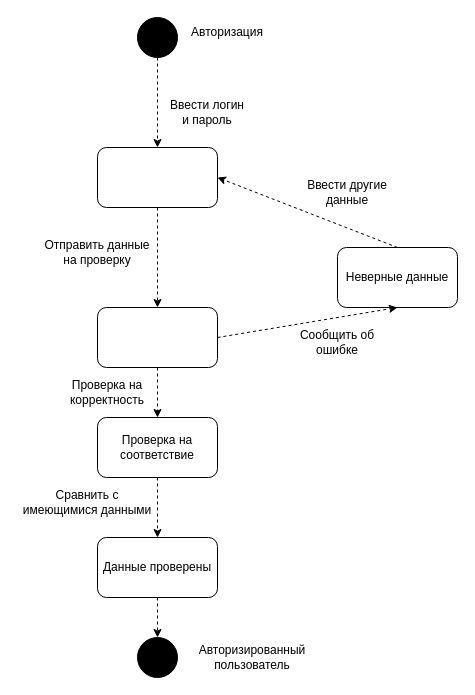
The diagram is 475 pixels wide and 695 high, and some of its shapes have lost their labels. The centre of each missing label's shape, as x and y in pixels:
"Данные отправлены на проверку" goes at (157,337).
"Логин и пароль введены" goes at (157,177).
